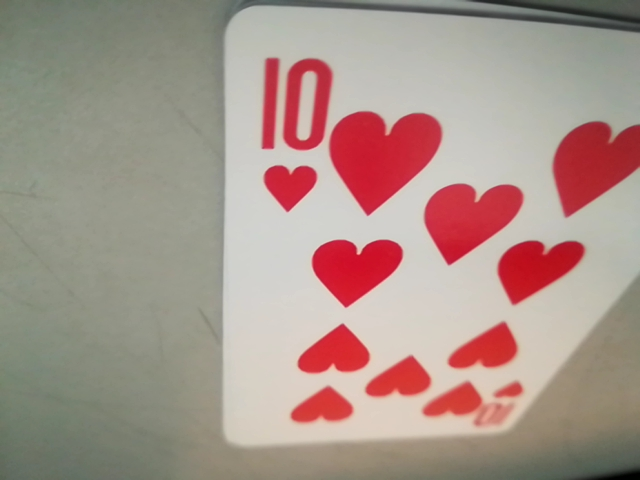hx 10: (236, 59, 330, 212)
